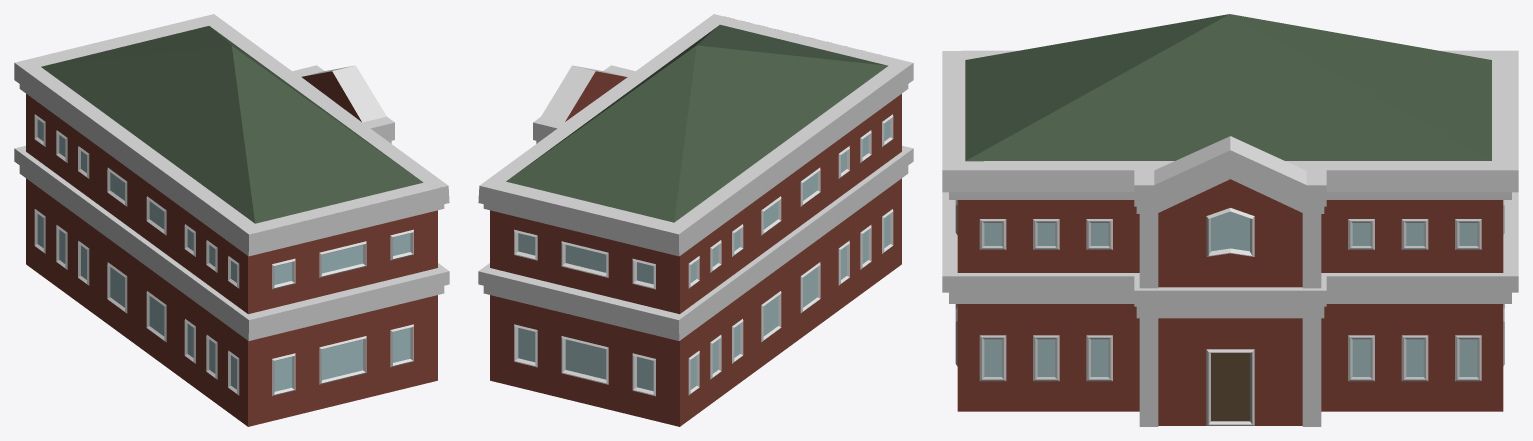
The model's file is University.fbx.
The picture shows the model from 3 angles, left to right: view 1: azimuth 30°, elevation 25°; view 2: azimuth 150°, elevation 25°; view 3: azimuth 270°, elevation 25°; orthographic projection. The views are drawn at different scales.
Parts seen in each view (by area): view 1: Cube; view 2: Cube; view 3: Cube.
Part boxes in pixels (x1,y1,x2,y2): Cube: (14,14,449,426); Cube: (478,14,913,426); Cube: (942,14,1518,426).
Bounding box in the file's own units: 429 × 507 × 778.
